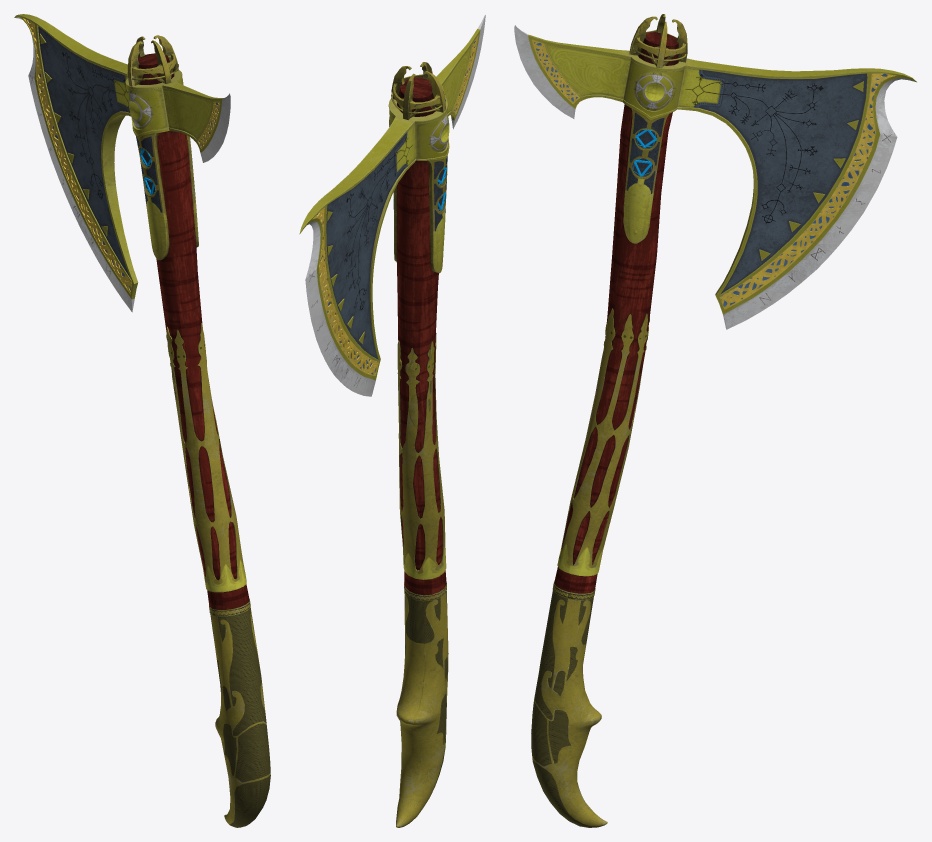
Rendered from the_god_of_war_-_leviathan.glb.
The picture shows the model from 3 angles, left to right: view 1: azimuth 30°, elevation 25°; view 2: azimuth 150°, elevation 25°; view 3: azimuth 270°, elevation 25°; orthographic projection. The views are drawn at different scales.
Visible parts, largest first — view 1: LeviathanAxe, Cube.104, Axe.003, Cube.096, Cube.058, Cube.057; view 2: LeviathanAxe, Cube.104, Axe.003, Cube.096, Cube.058, Cube.057; view 3: Cube.104, LeviathanAxe, Axe.003, Cube.058, Cube.096, Cube.057, Cube.102.
Part boxes in pixels (<box>): LeviathanAxe: <box>138,53,270,827</box>; Cube.104: <box>14,14,230,312</box>; Axe.003: <box>166,323,246,592</box>; Cube.096: <box>136,133,198,260</box>; Cube.058: <box>23,18,131,293</box>; Cube.057: <box>127,35,178,86</box>; LeviathanAxe: <box>396,77,448,827</box>; Cube.104: <box>299,15,485,396</box>; Axe.003: <box>397,333,446,579</box>; Cube.096: <box>393,156,447,273</box>; Cube.058: <box>313,207,378,375</box>; Cube.057: <box>391,62,445,119</box>; Cube.104: <box>514,25,916,329</box>; LeviathanAxe: <box>531,32,678,827</box>; Axe.003: <box>557,308,649,576</box>; Cube.058: <box>719,73,895,309</box>; Cube.096: <box>623,108,668,243</box>; Cube.057: <box>629,14,687,68</box>; Cube.102: <box>532,39,579,103</box>.
Size of the model in its own units: 0.1278 by 1.06 by 0.4947.
12 materials, 12 textured.
